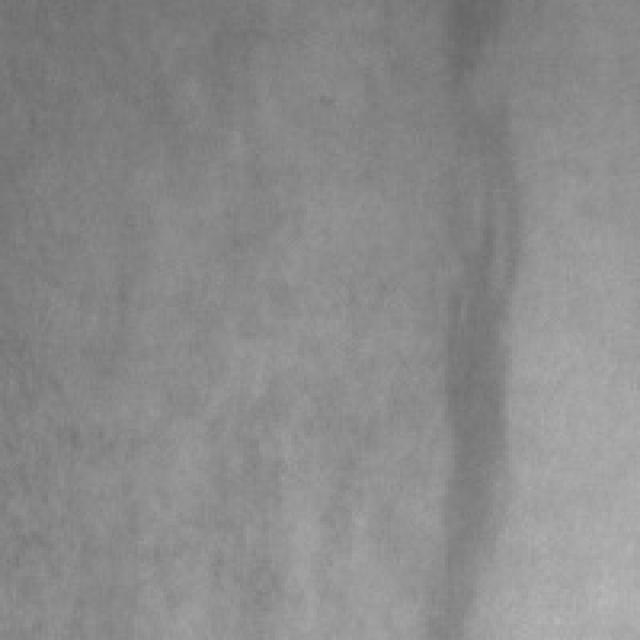inclusion: (419, 90, 518, 620)
